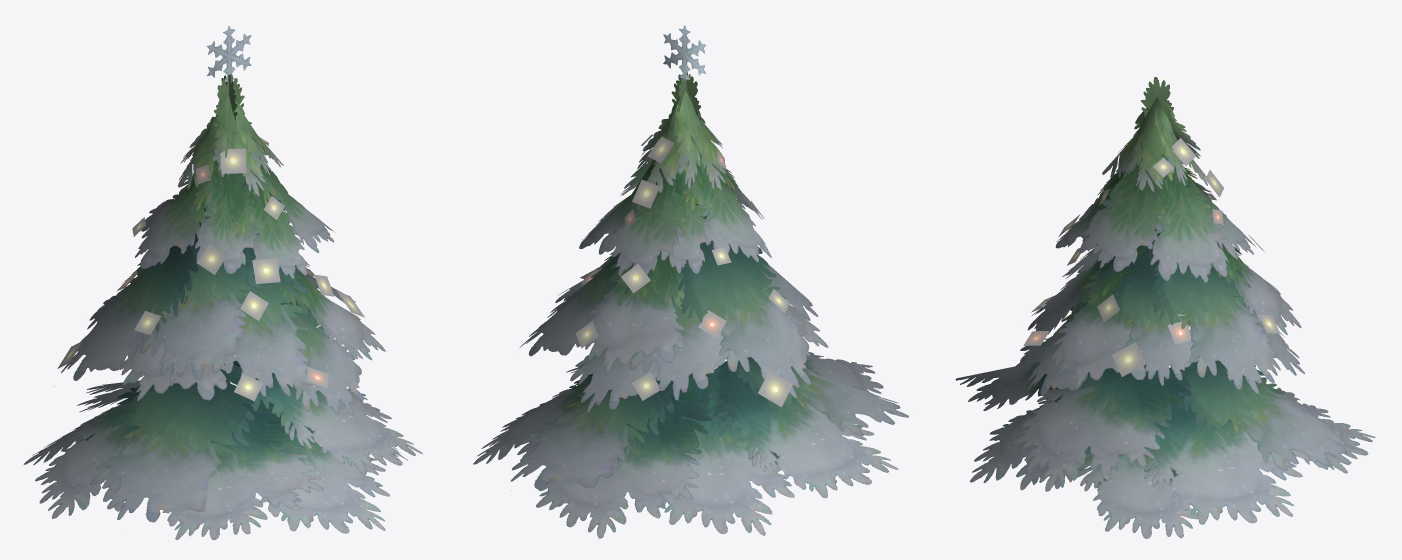
Rendered from pref_sm_beach_winter_tree02_lv3.fbx.
3 renders of one model, left to right at view 1: azimuth 30°, elevation 25°; view 2: azimuth 150°, elevation 25°; view 3: azimuth 270°, elevation 25°, orthographic. The views are drawn at different scales.
Visible parts, largest first — view 1: pref_sm_beach_winter_tree02_lv3, sm_beach_winter_tree02b_lv3; view 2: pref_sm_beach_winter_tree02_lv3, sm_beach_winter_tree02b_lv3; view 3: pref_sm_beach_winter_tree02_lv3, sm_beach_winter_tree02b_lv3.
Boxes of the visible parts, left/top/right/bottom form: pref_sm_beach_winter_tree02_lv3: left=23, top=26, right=422, bottom=540; sm_beach_winter_tree02b_lv3: left=57, top=137, right=364, bottom=401; pref_sm_beach_winter_tree02_lv3: left=473, top=25, right=908, bottom=538; sm_beach_winter_tree02b_lv3: left=575, top=131, right=792, bottom=407; pref_sm_beach_winter_tree02_lv3: left=955, top=77, right=1375, bottom=538; sm_beach_winter_tree02b_lv3: left=1023, top=135, right=1284, bottom=376.
Size of the model in its own units: 6.01 by 7 by 6.35.
